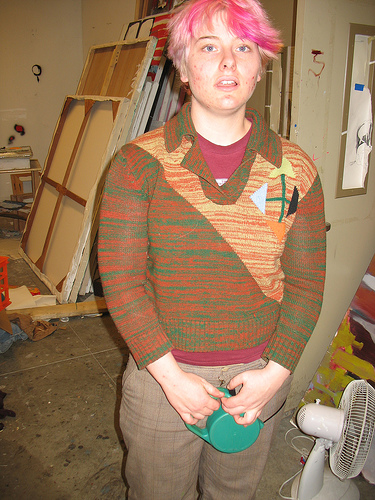without_mask: (172, 3, 271, 115)
